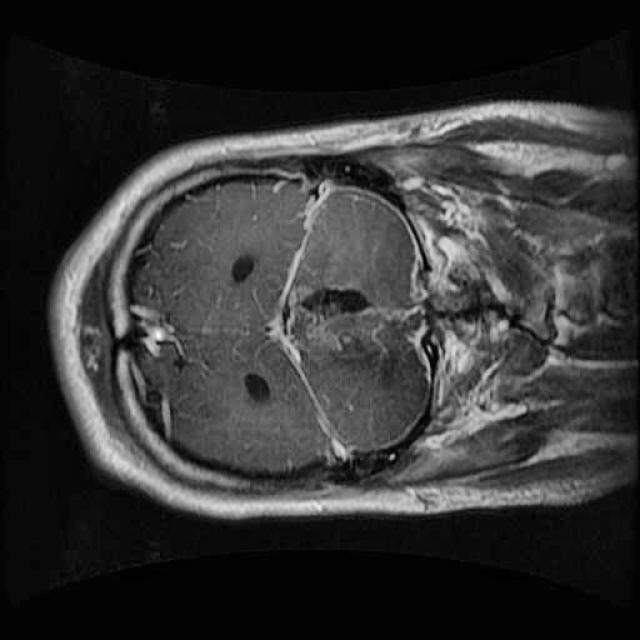Non-Tumor: (274, 271, 411, 381)
